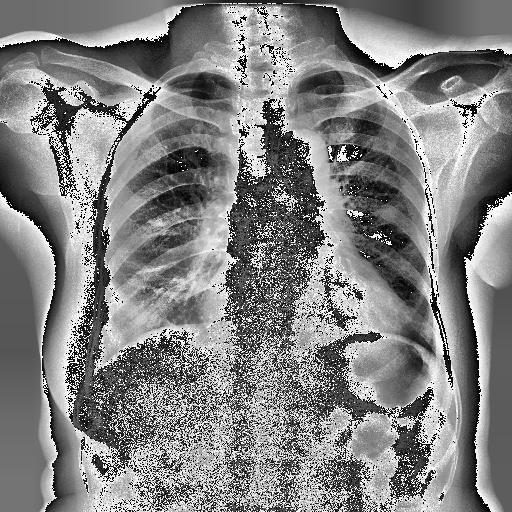0- Aortic enlargement: (266, 129, 328, 186), (280, 132, 328, 187), (282, 130, 328, 174)
13- Pulmonary fibrosis: (134, 262, 172, 272)
3- Cardiomegaly: (196, 282, 412, 340), (196, 282, 416, 334), (193, 292, 414, 340)
6- Infiltration: (102, 239, 207, 342)
7- Lung Opacity: (102, 239, 207, 342)
